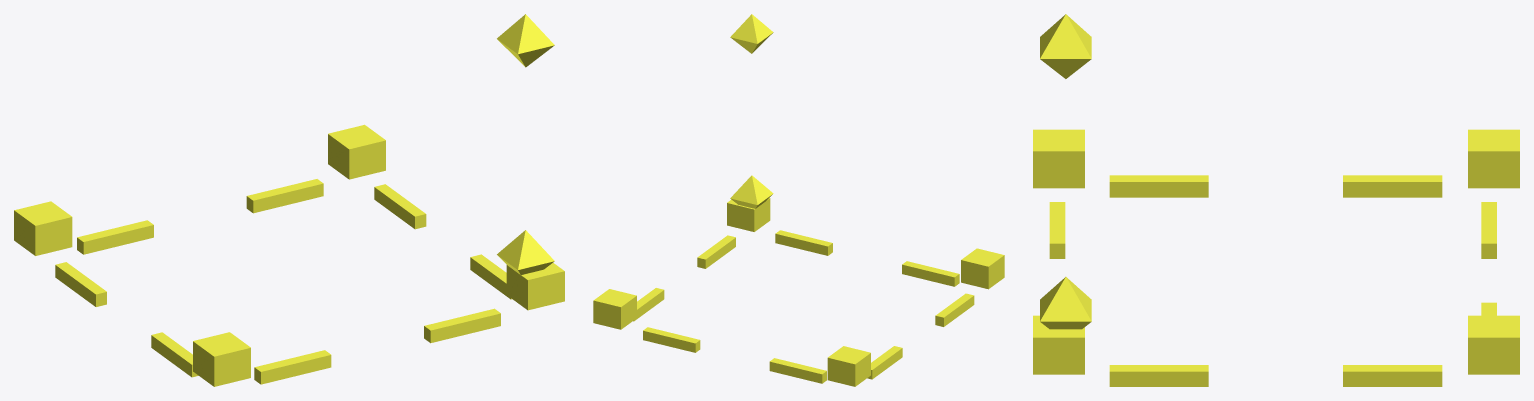
File: ballistabase_veteran.fbx
The picture shows the model from 3 angles, left to right: view 1: azimuth 30°, elevation 25°; view 2: azimuth 150°, elevation 25°; view 3: azimuth 270°, elevation 25°; orthographic projection. The views are drawn at different scales.
Parts seen in each view (by area): view 1: polySurface148; view 2: polySurface148; view 3: polySurface148.
Boxes of the visible parts, x1,y1,x2,y2 form: polySurface148: (14,14,564,386); polySurface148: (593,14,1004,386); polySurface148: (1033,14,1519,386).
Bounding box in the file's own units: 82.51 × 67.35 × 81.53.
Materials: 1 (1 with a texture image).
